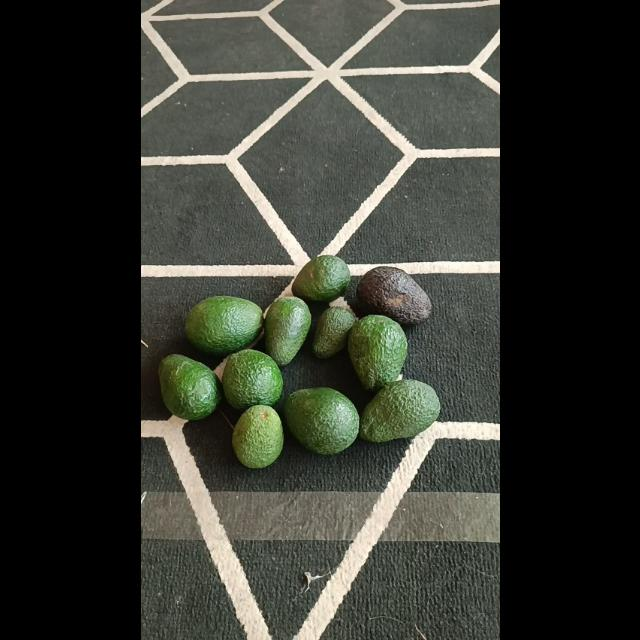Primera: (358, 378, 439, 442), (282, 388, 360, 454), (182, 294, 262, 354), (346, 314, 406, 390), (354, 264, 430, 324), (157, 354, 219, 421), (220, 349, 282, 409), (263, 296, 311, 366)
Segunda: (230, 405, 284, 467), (292, 254, 351, 302)
Tercera: (311, 305, 355, 357)
